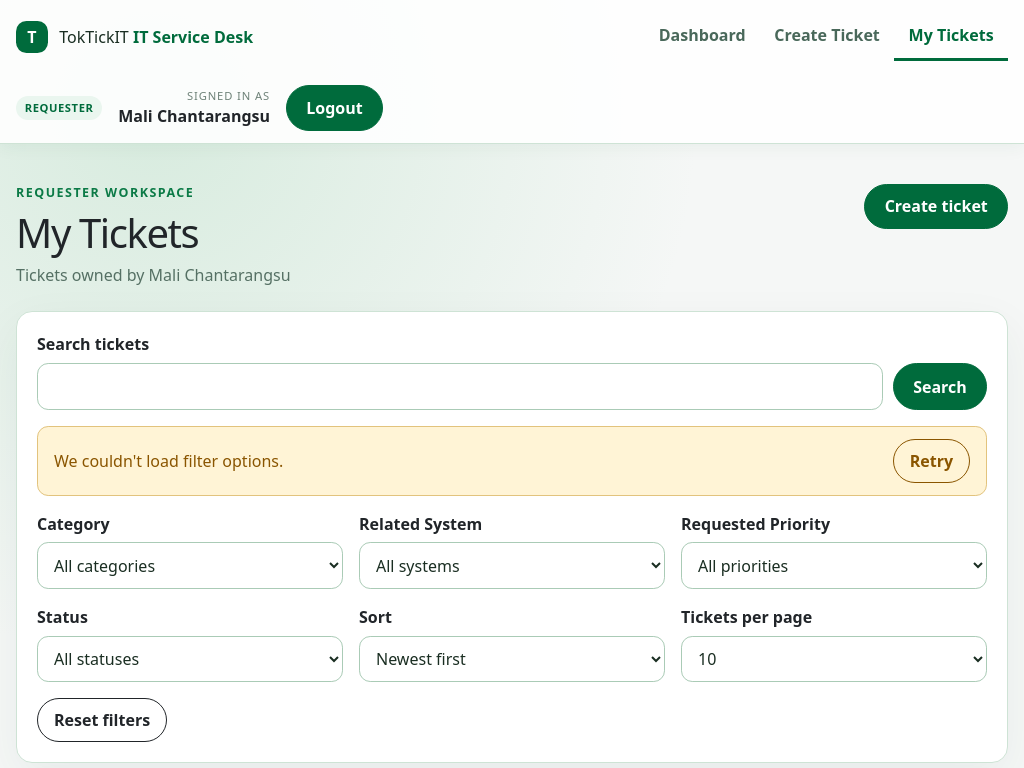
My Tickets page › distinguishes filter metadata failure and recovers through Retry
The width and height of the screenshot is (1024, 768).
Expected: the message named "Filter options unavailable" shows "We couldn't load filter options.", [54,450,283,472]
Expected: the dropdown labelled "Category" is disabled, [37,542,343,589]
What coordinates should you click on to do the following:
click the button "Retry"
I would click on:
 (931, 461)
Its box is [893,439,970,483].
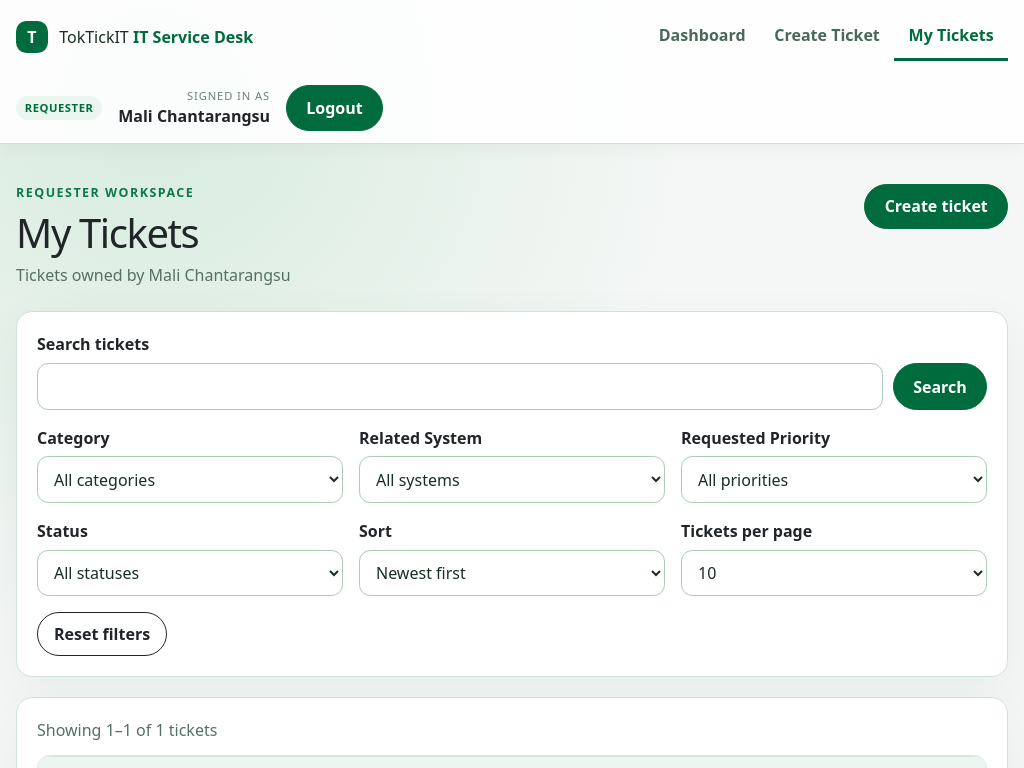
Now the dropdown labelled "Category" is enabled, box [37,456,343,503]
Now the dropdown labelled "Related System" is enabled, box [359,456,665,503]
